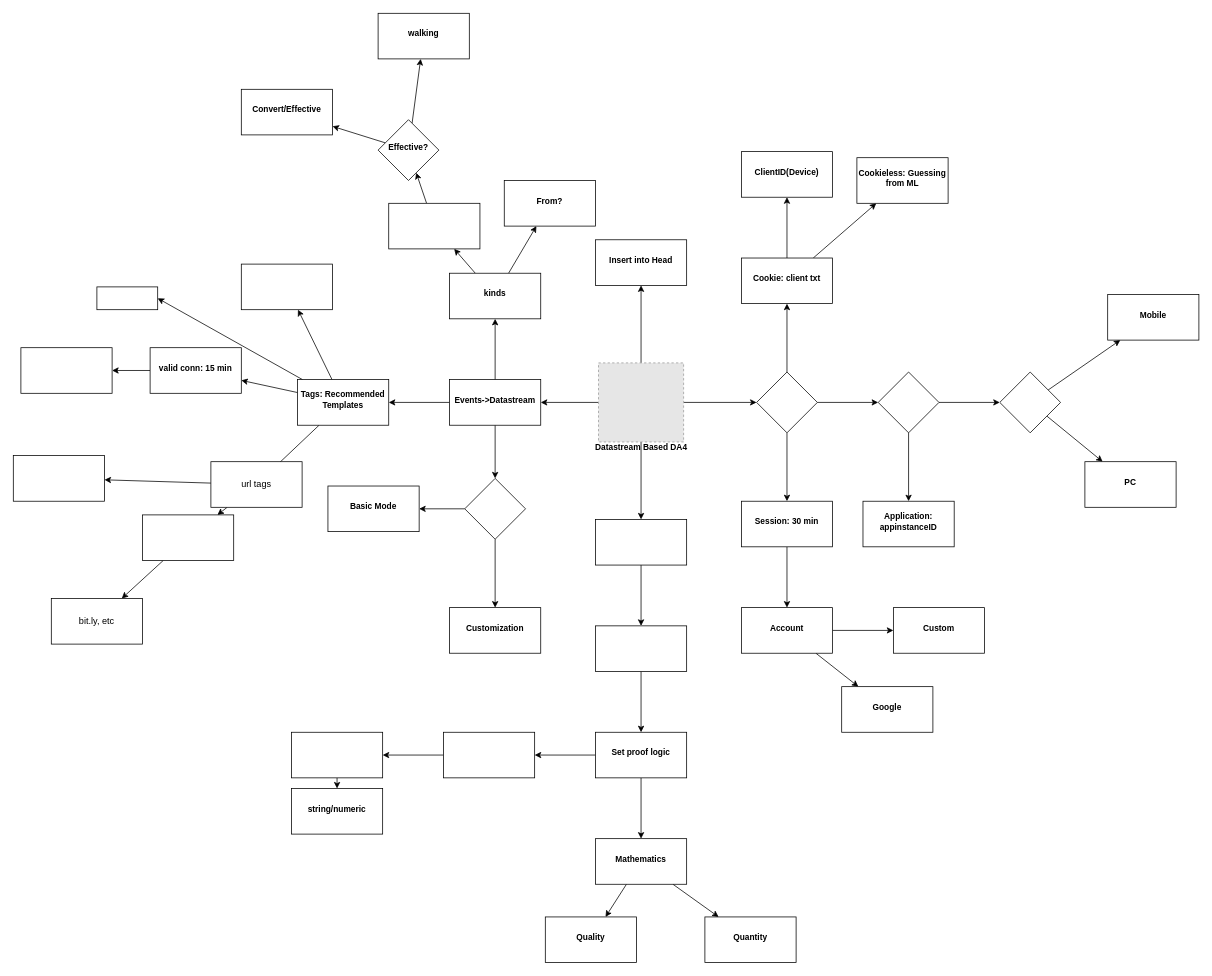
This 1212x976 diagram has some shape labels left out. Grey dashed boxes stand in for pictures. Here are the shapes that lost their labels. From the top down, the centre of each, then its label:
pixel 434 226: Actions
pixel 127 298: GTAG/GTM
pixel 286 286: HTML tags
pixel 66 370: nonvalid: 10 s
pixel 786 402: User Conn
pixel 908 402: Device
pixel 1030 402: Browser
pixel 58 478: /?: campaign tag
pixel 495 508: Default?
pixel 188 537: len limit of GDA4
pixel 641 542: Analysis: normal/ML Autoreports
pixel 641 648: Hypothesis
pixel 337 755: name, {k: v}
pixel 489 755: parameters
